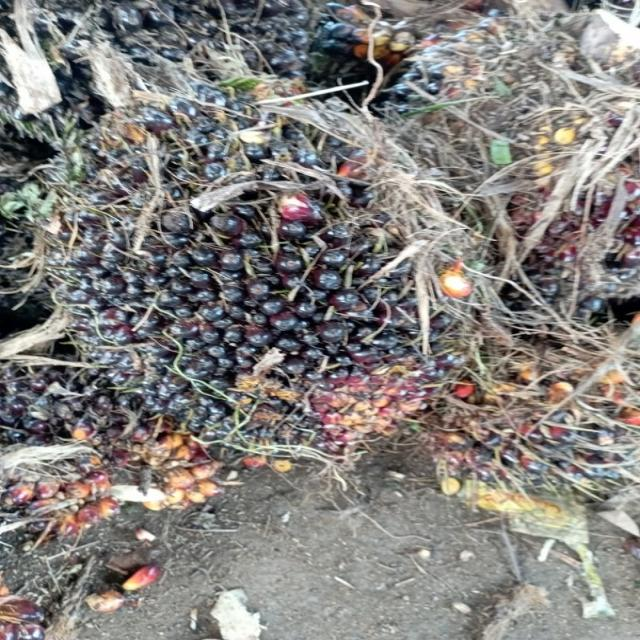fraksi 00: (4, 64, 478, 482)
